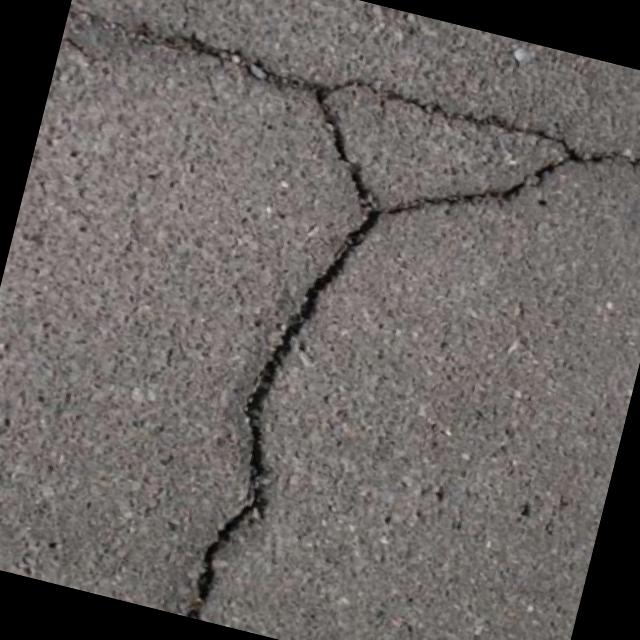crack: (173, 215, 365, 636), (71, 0, 523, 146), (502, 117, 640, 237), (286, 98, 401, 240), (379, 161, 502, 244)
